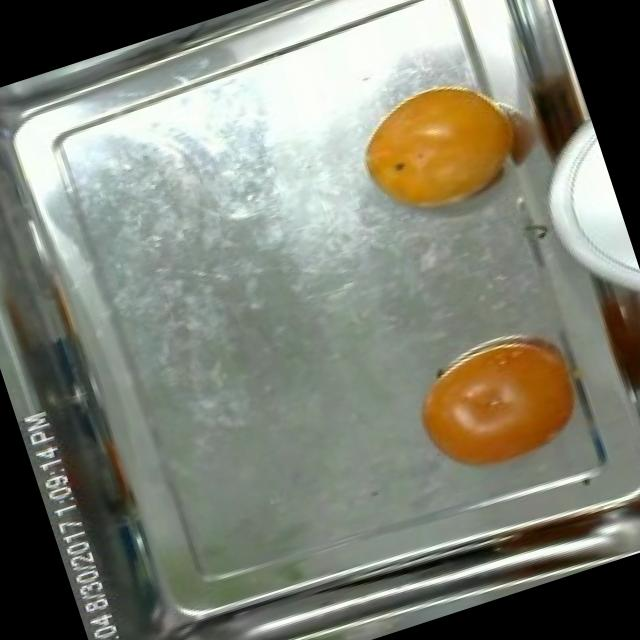Fruit: (332, 50, 560, 248), (386, 304, 614, 498), (559, 253, 640, 417)
